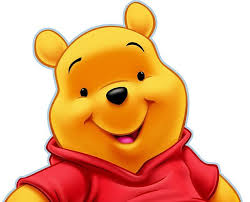Winnie: (29, 3, 214, 180)
